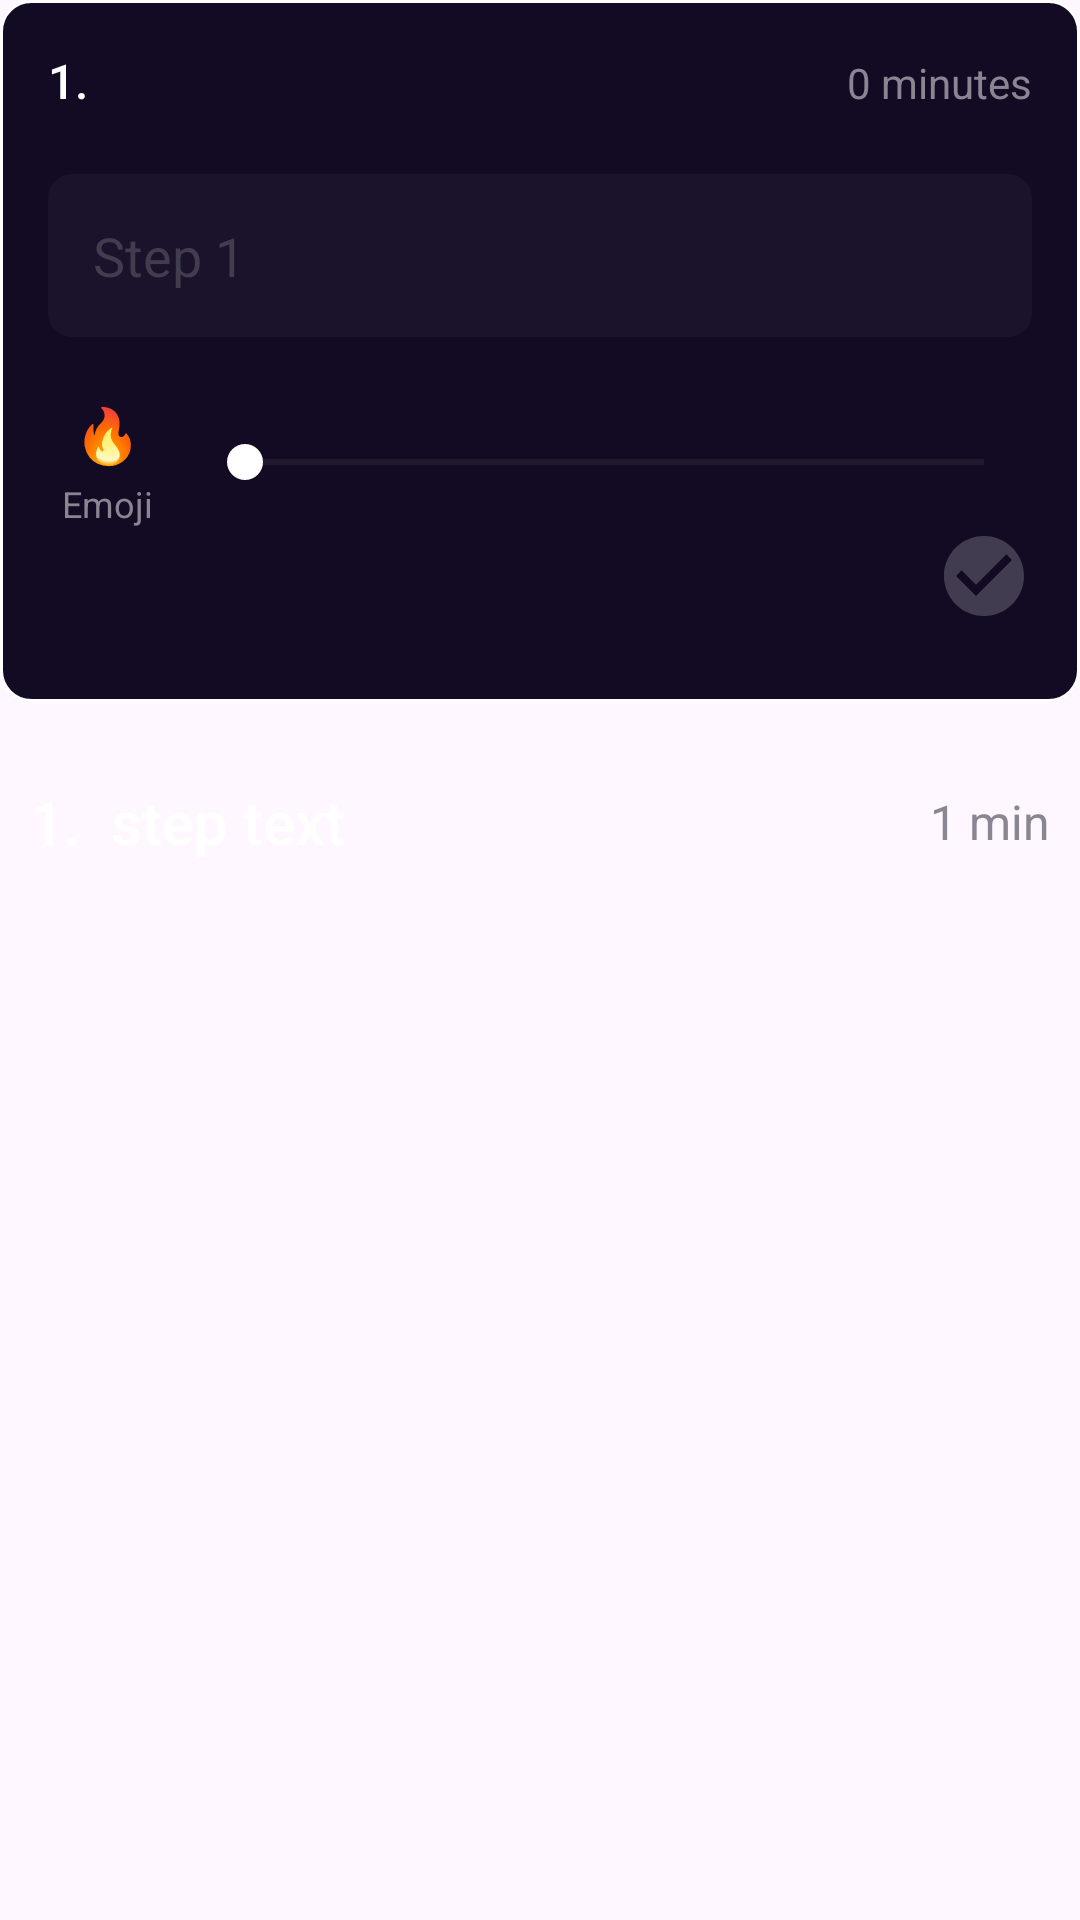

Where icons sit on this 1080*1920 app screen, as (left=x1, top=y1, right=x2, bottom=y2):
check circle: (left=944, top=536, right=1024, bottom=616)
